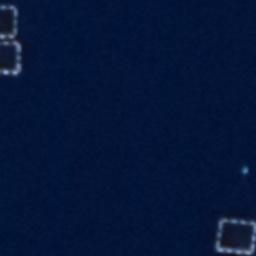square_solid: (210, 213, 256, 255), (1, 1, 25, 44), (1, 37, 26, 78)
